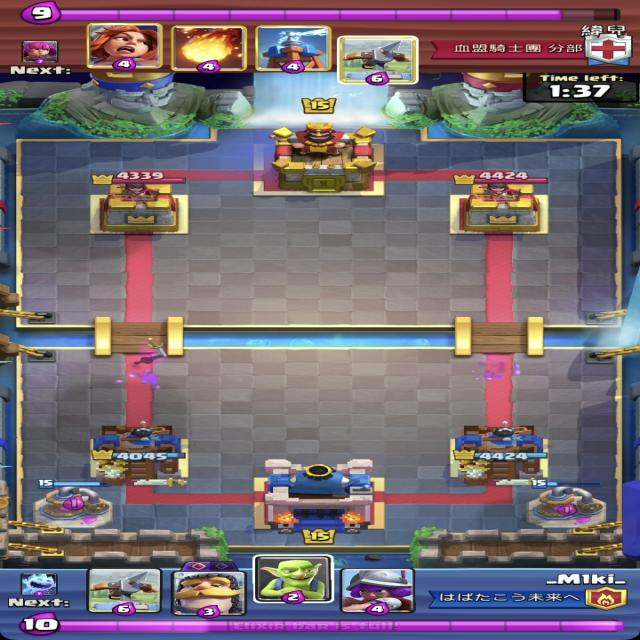Player-ElixirPump: (31, 479, 115, 530), (526, 480, 608, 530)
